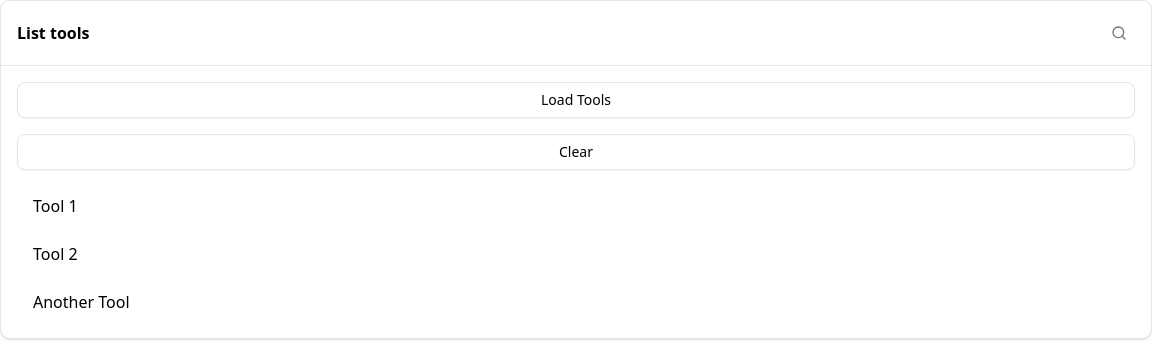
Test: ListPane › Search Functionality › should show 'No items found of matching "NonExistent"' when search has no results
Step 1. Click the button named "Search" → click(1119, 33), box [1103,17,1135,49]
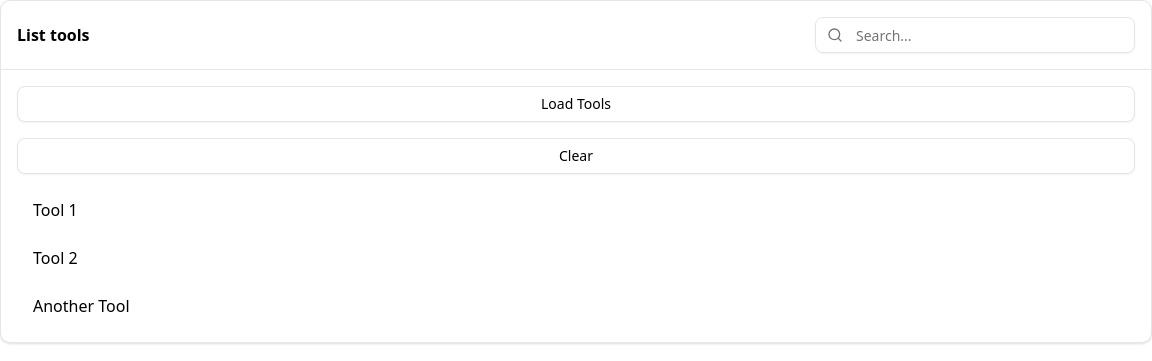
Step 2. Type "NonExistent" into the field with placeholder "Search..." → (975, 35), box [815,17,1135,53]
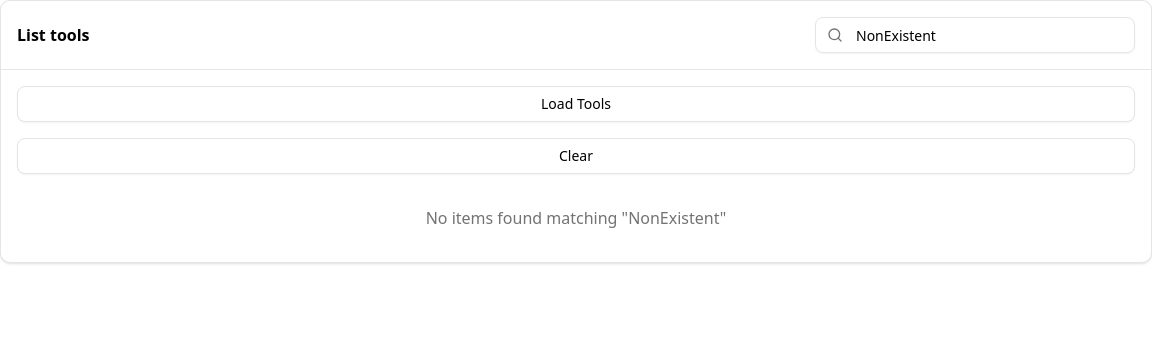
Check: the text "No items found matching \"NonExistent\"" is shown, box [426,207,726,229]
Check: the text "Tool 1" is gone
